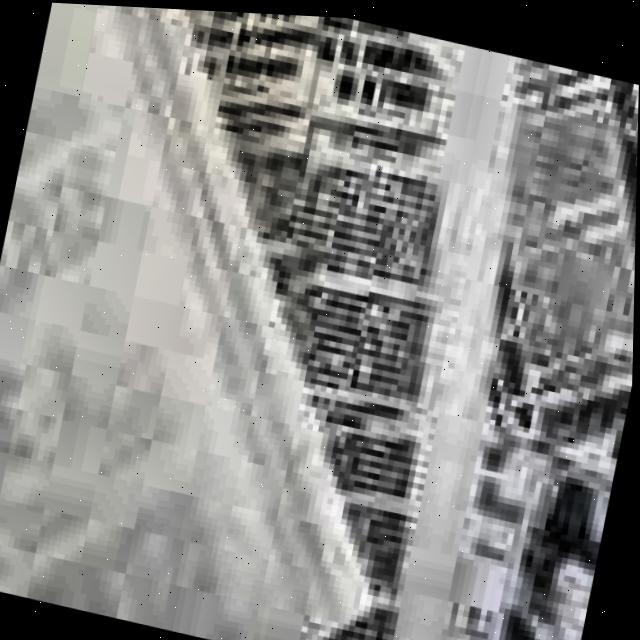paper: (0, 2, 374, 640), (358, 52, 639, 640)
